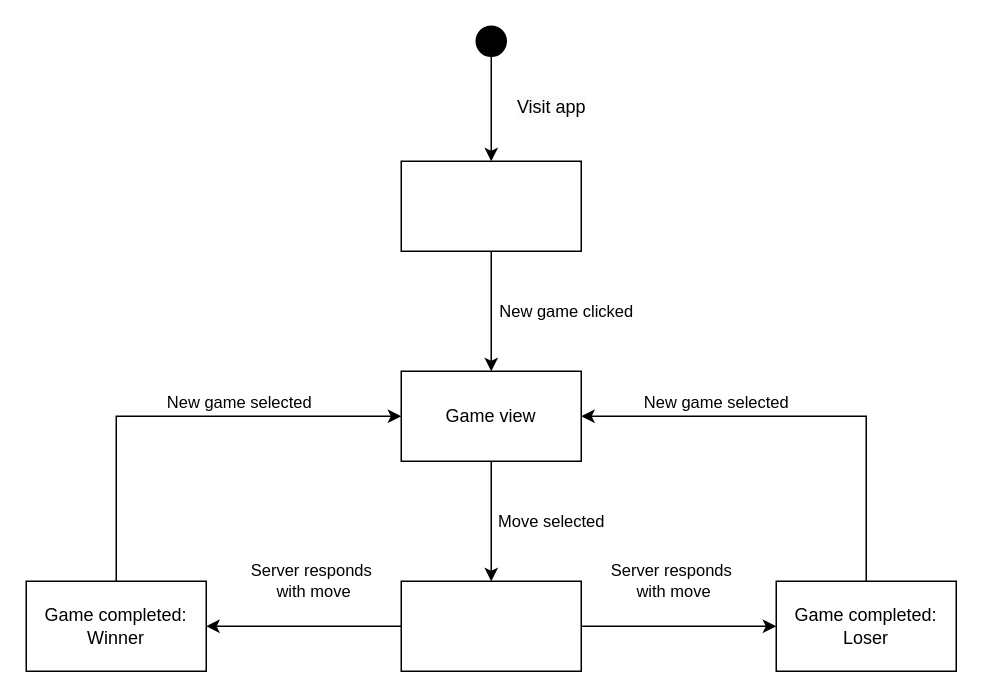
Some shapes in this 983 by 698 pixel diagram are drawn without their labels. The centre of each missing label's shape, as x and y in pixels:
"Homepage" goes at pixel 490 205.
"Loading" goes at pixel 490 625.
